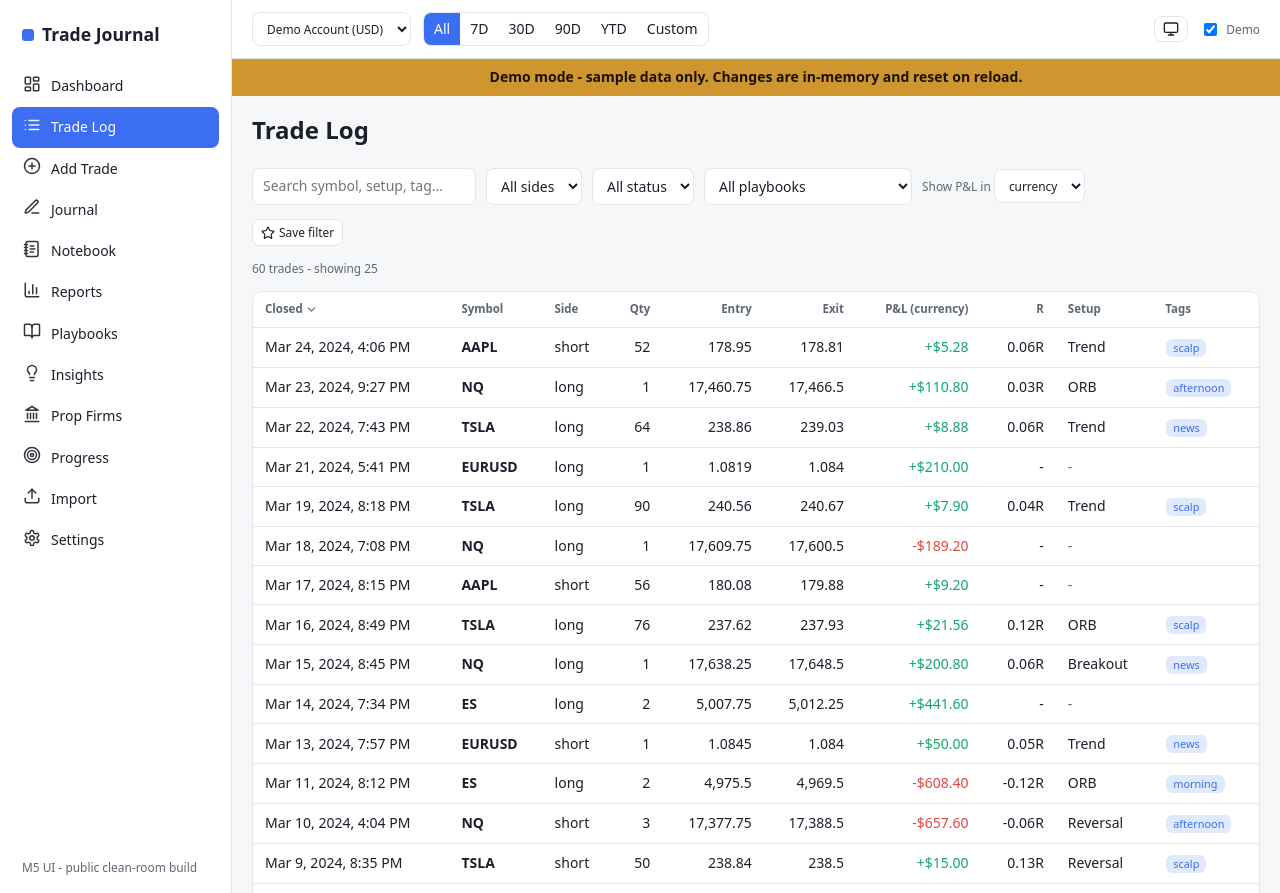
Test: Demo-mode happy path › search filters the trade log
Expected: the heading "Trade Log" is shown, [252, 113, 369, 146]
In the search field named "search trades": x=364, y=186 [252, 168, 476, 205], type "AAPL"
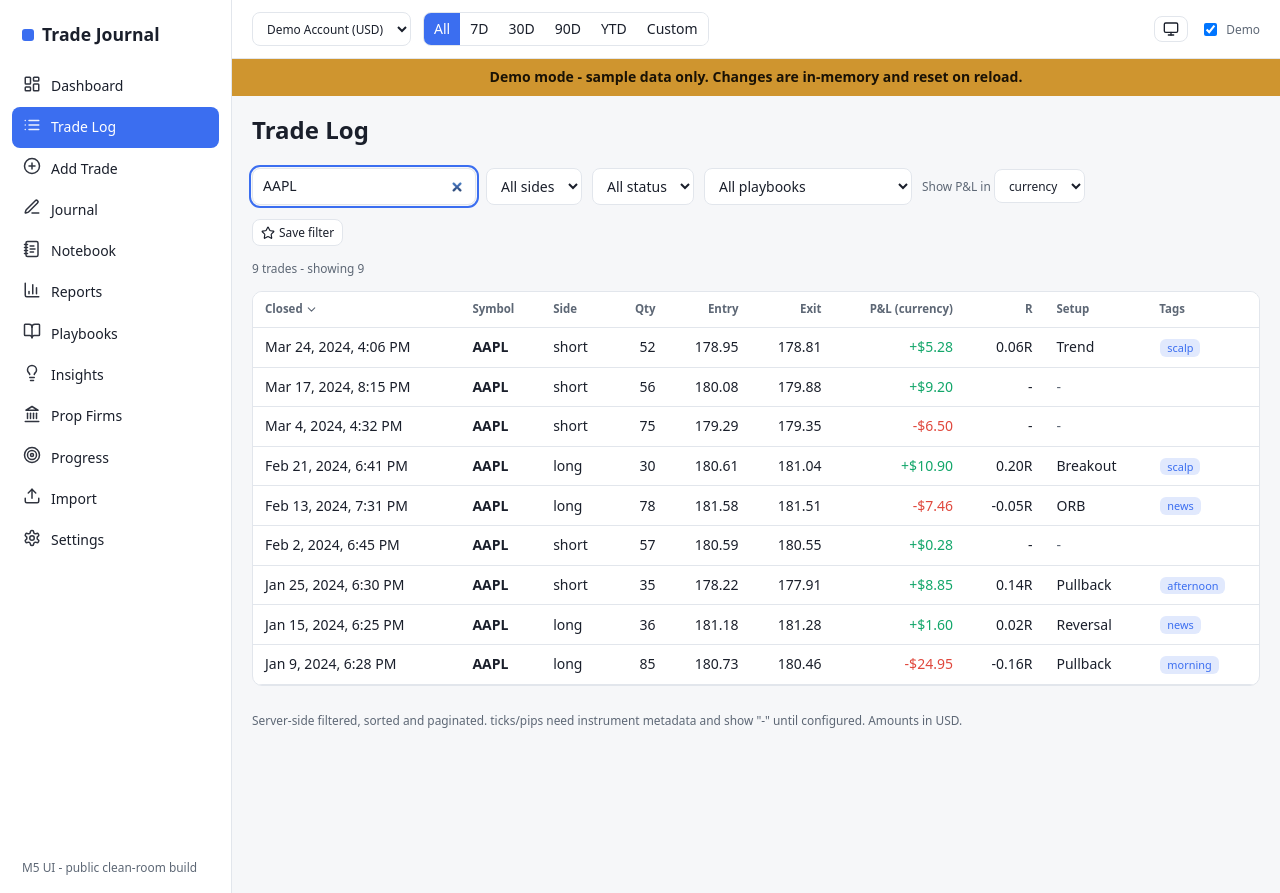
Result: the row that starts with "Feb 21, 2024, 6:41 PM" shows "AAPL" at [472, 456, 508, 475]
Result: the row that starts with "Feb 13, 2024, 7:31 PM" shows "AAPL" at [472, 496, 508, 515]
Result: the row "Feb 2, 2024, 6:45 PM AAPL short 57 180.59 180.55 +$0.28 - -" is shown at [253, 526, 1259, 565]
